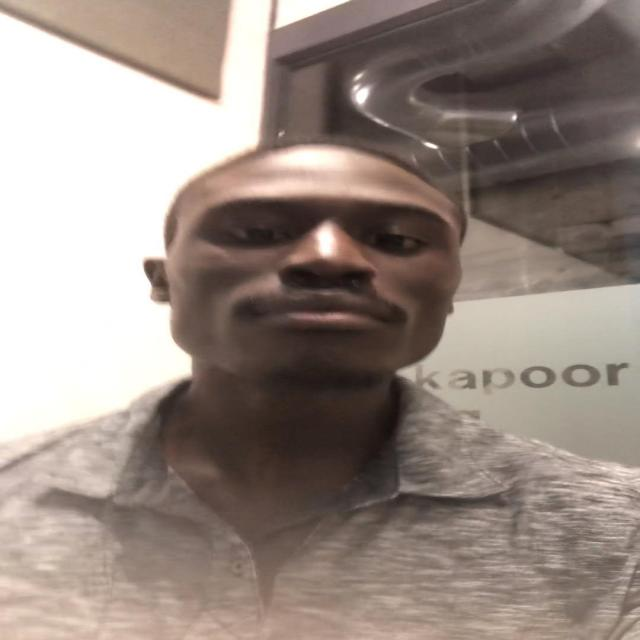face: (167, 170, 465, 386)
